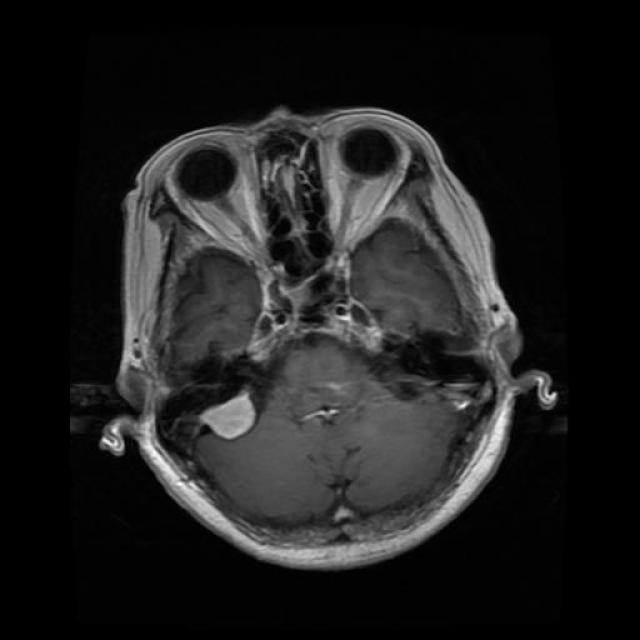meningioma: (200, 390, 256, 441)
